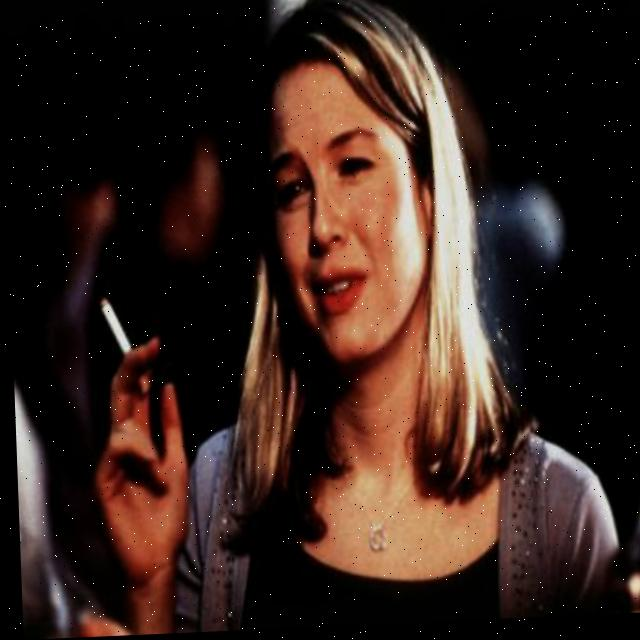cigarette: (96, 296, 133, 360)
